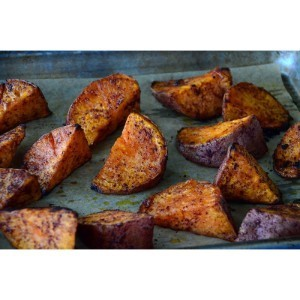sweet potato_brain food: (14, 70, 276, 239)
